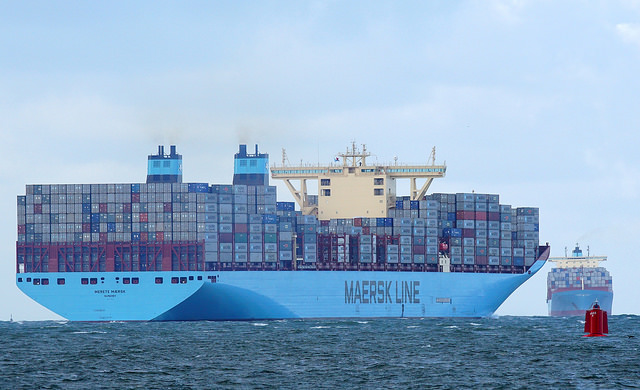container_ship: (16, 145, 549, 323), (548, 241, 615, 315)
